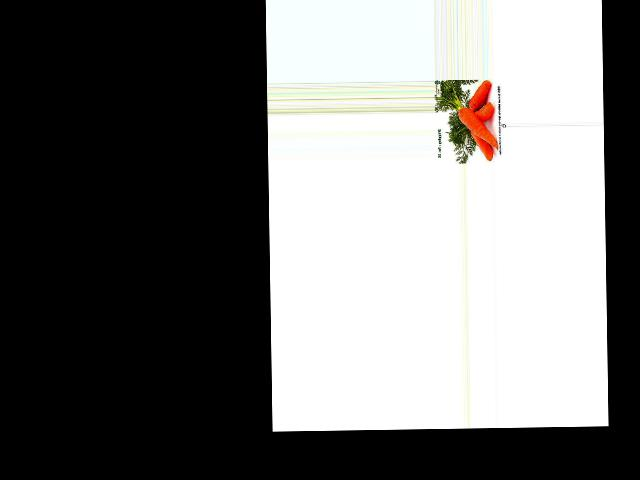carrot: (465, 80, 492, 112)
